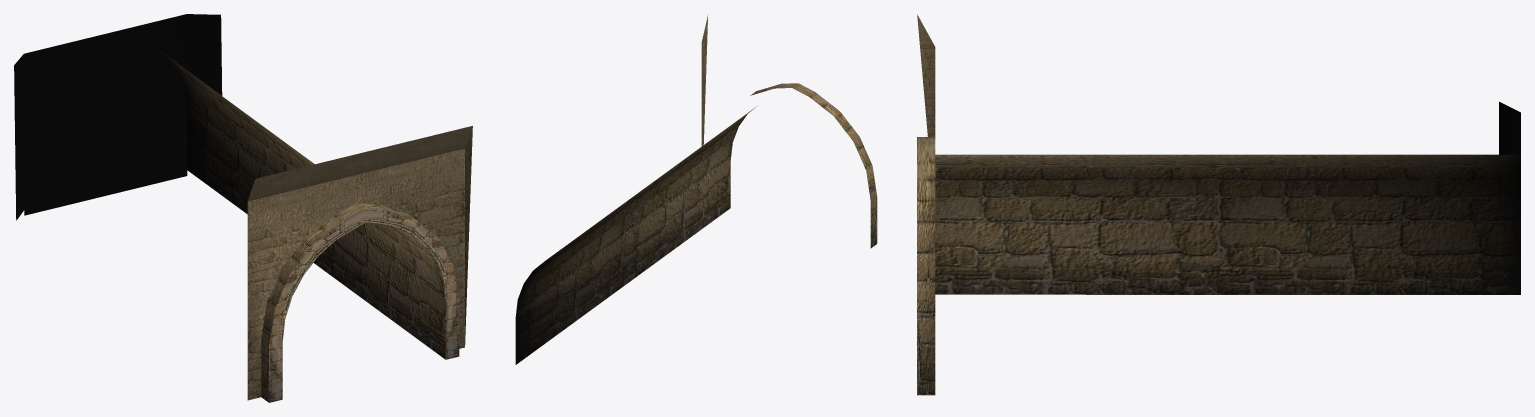
File: M7Z4_FortWall1_B.glb
3 renders of one model, left to right at view 1: azimuth 30°, elevation 25°; view 2: azimuth 150°, elevation 25°; view 3: azimuth 270°, elevation 25°, orthographic. The views are drawn at different scales.
Visible parts, largest first — view 1: M7Z4_FORTWALL1_B; view 2: M7Z4_FORTWALL1_B; view 3: M7Z4_FORTWALL1_B.
Boxes of the visible parts, left/top/right/bottom form: M7Z4_FORTWALL1_B: left=14, top=14, right=472, bottom=402; M7Z4_FORTWALL1_B: left=515, top=14, right=877, bottom=364; M7Z4_FORTWALL1_B: left=917, top=14, right=1520, bottom=395.
Bounding box in the file's own units: 8 × 8.2 × 16.5.
4 materials, 4 textured.
